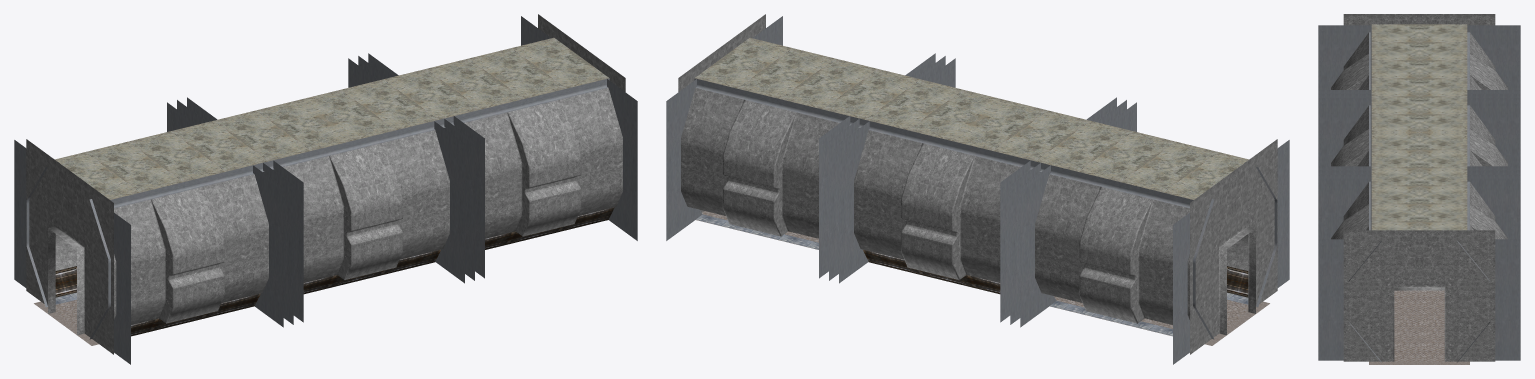
The model's file is Tunnel.fbx.
3 views of the same model, side by side, from view 1: azimuth 30°, elevation 25°; view 2: azimuth 150°, elevation 25°; view 3: azimuth 270°, elevation 25° (orthographic). The views are drawn at different scales.
Visible parts, largest first — view 1: Tunnel; view 2: Tunnel; view 3: Tunnel.
Part boxes in pixels (x1,y1,x2,y2): Tunnel: (14, 14, 637, 364); Tunnel: (666, 14, 1289, 364); Tunnel: (1318, 14, 1520, 364).
Bounding box in the file's own units: 20.86 × 5.75 × 8.
Materials: 7 (7 with a texture image).
